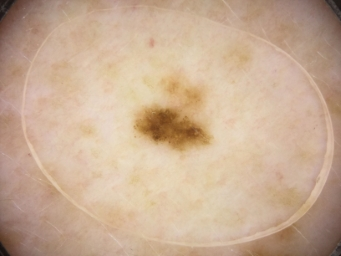melanoma: (128, 106, 214, 147)
